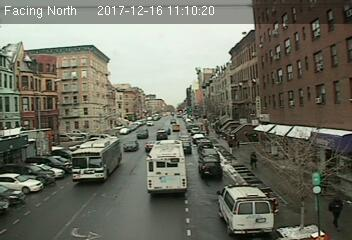bus: (69, 136, 123, 183), (146, 140, 190, 197)
car: (197, 158, 221, 177), (200, 148, 220, 159), (120, 140, 139, 151), (135, 128, 149, 139), (157, 128, 168, 140)
pedestrian: (328, 194, 345, 231), (247, 150, 261, 172)
police: (216, 183, 277, 236)
